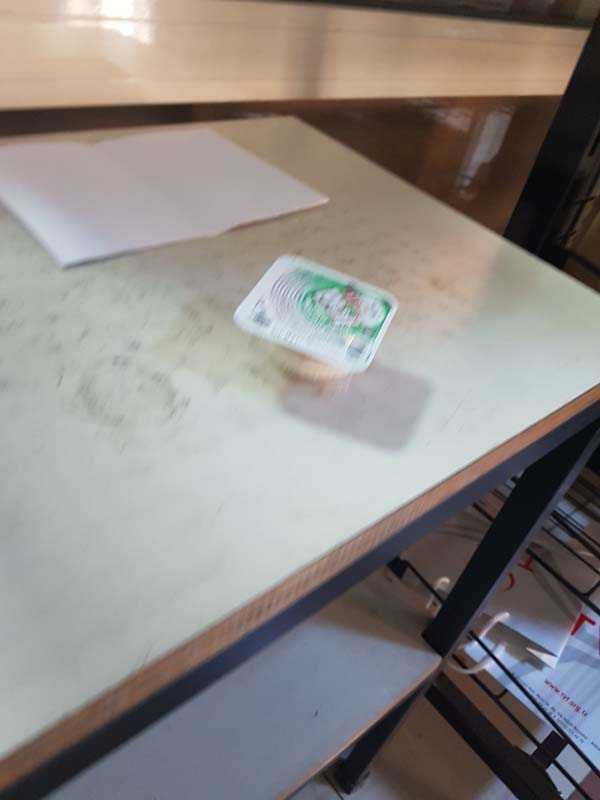etipuf: (230, 251, 400, 372)
